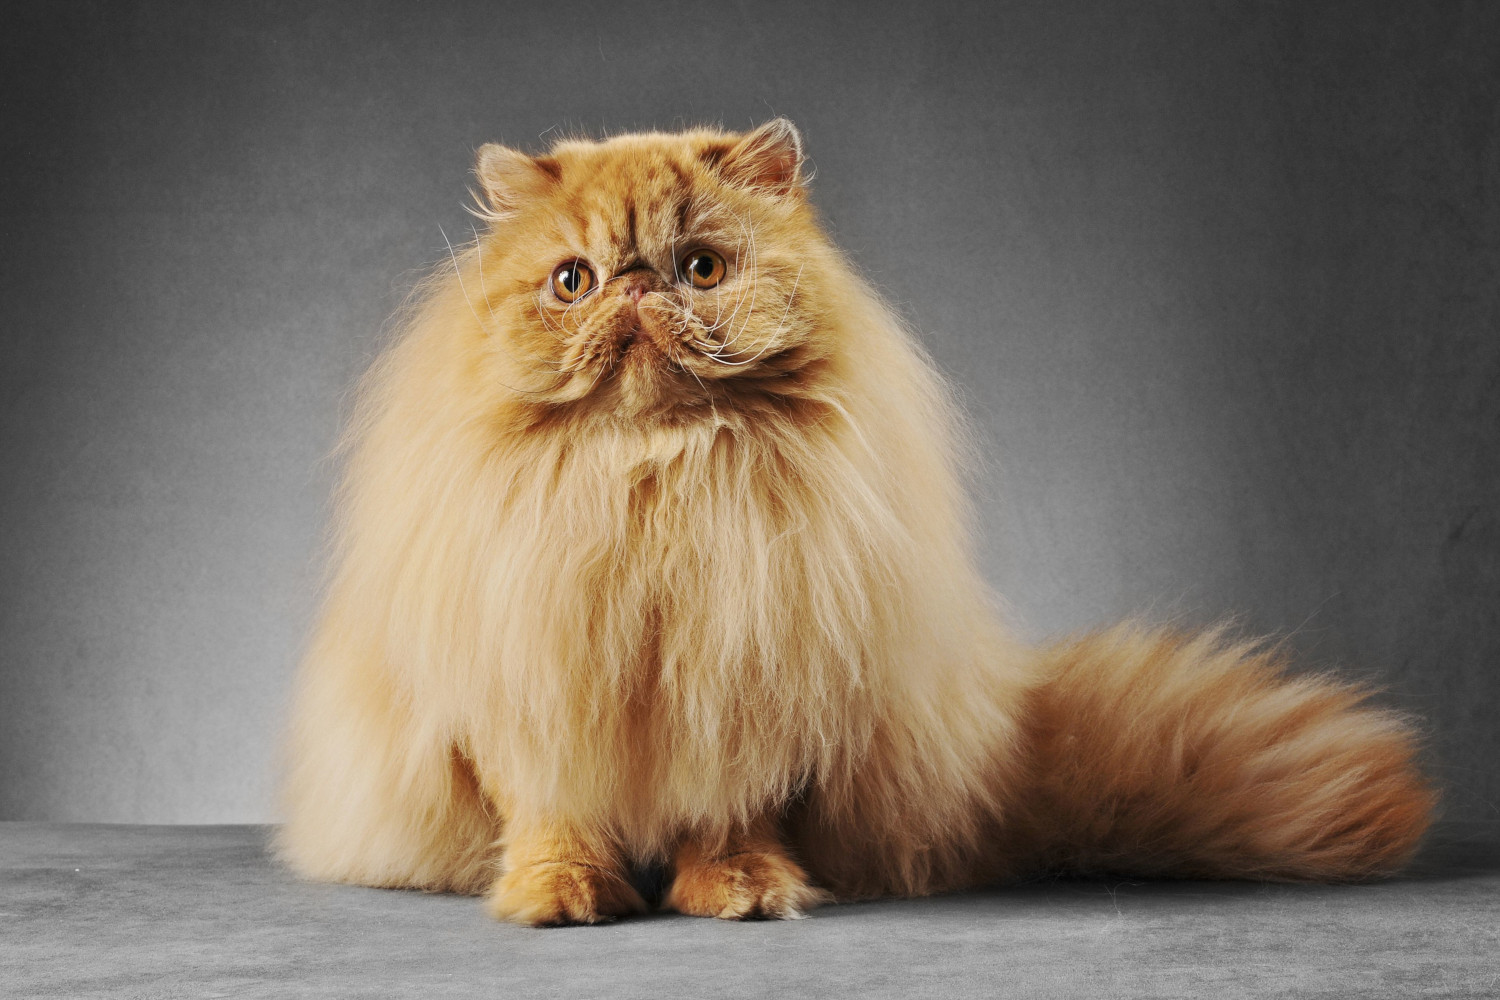cat: (269, 115, 1442, 932)
